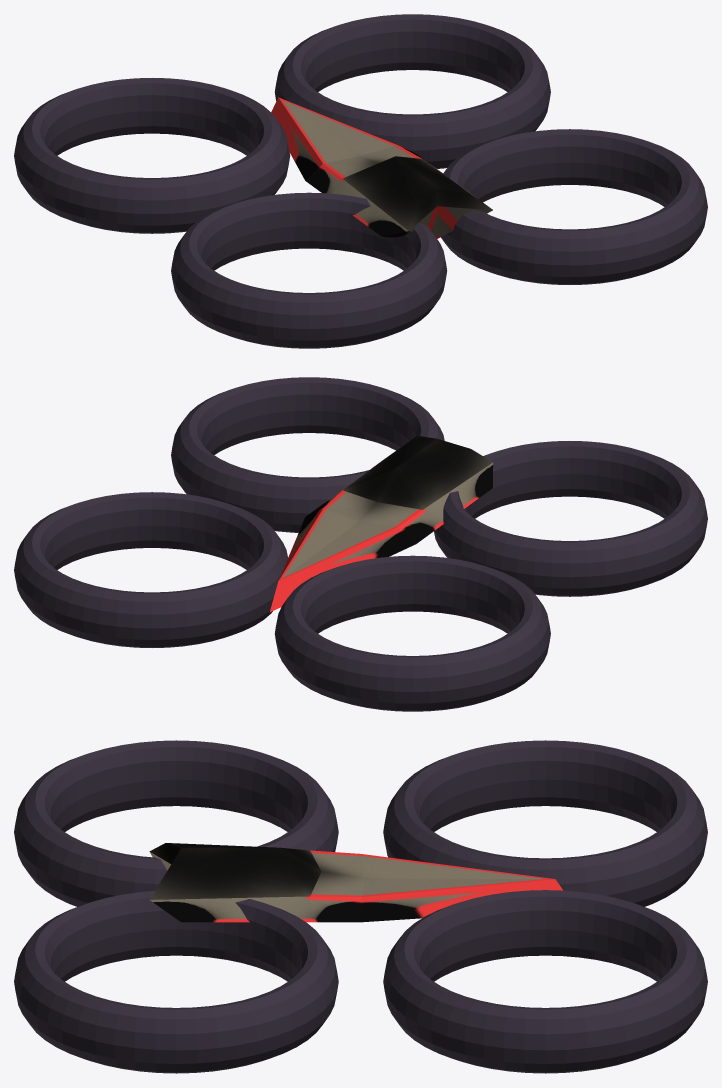
The model's file is DroneV2.obj.
3 renders of one model, top to bottom at view 1: azimuth 30°, elevation 25°; view 2: azimuth 150°, elevation 25°; view 3: azimuth 270°, elevation 25°, orthographic. The views are drawn at different scales.
Visible parts, largest first — view 1: Cube.002, Cube; view 2: Cube.002, Cube; view 3: Cube.002, Cube.
Part boxes in pixels (x1,y1,x2,y2): Cube.002: [14, 14, 707, 348]; Cube: [271, 97, 492, 238]; Cube.002: [14, 377, 707, 711]; Cube: [269, 435, 493, 612]; Cube.002: [14, 740, 707, 1073]; Cube: [149, 843, 563, 922].
Bounding box in the file's own units: 10.26 × 1.52 × 10.49.
